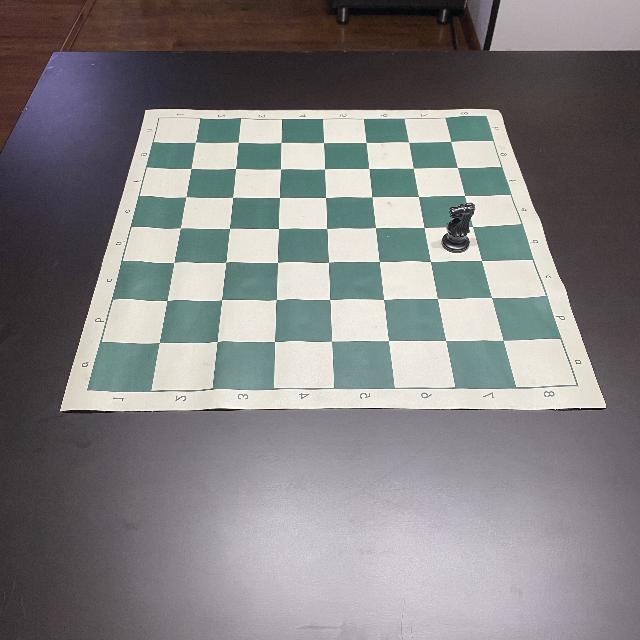black-knight: (442, 201, 476, 253)
board: (60, 106, 608, 412)
